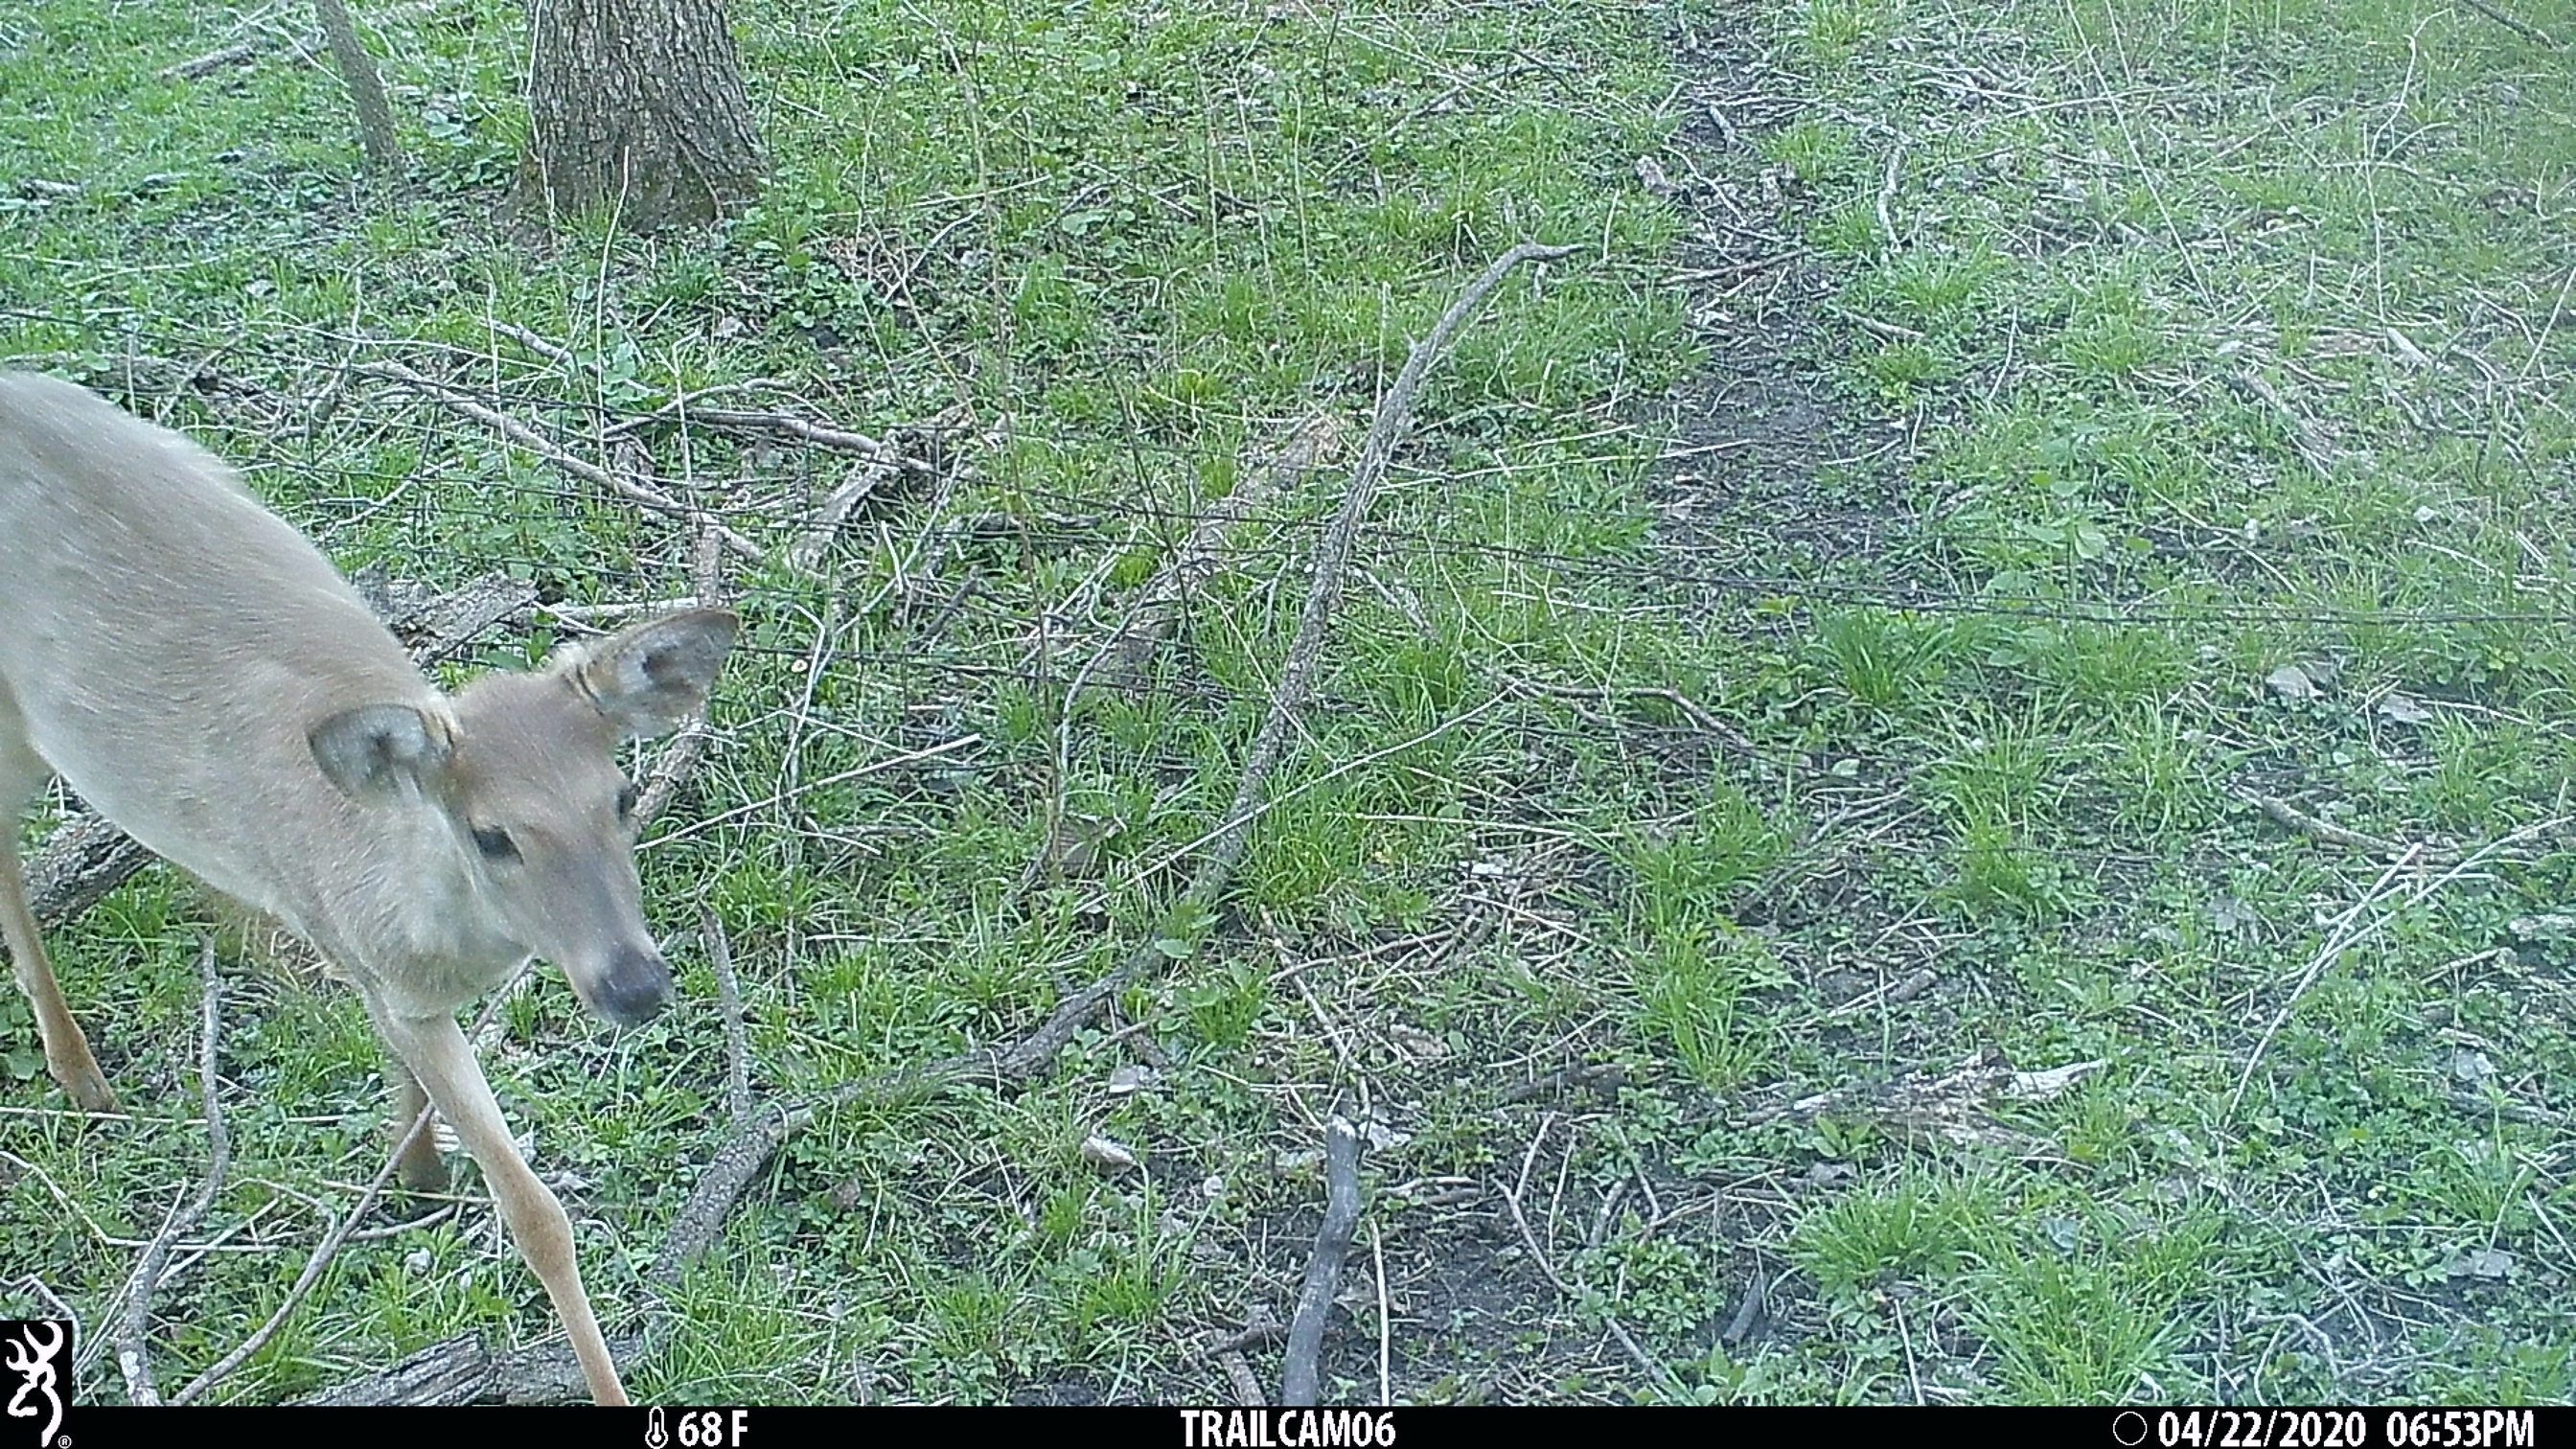DeerDoe: (2, 366, 743, 1405)
